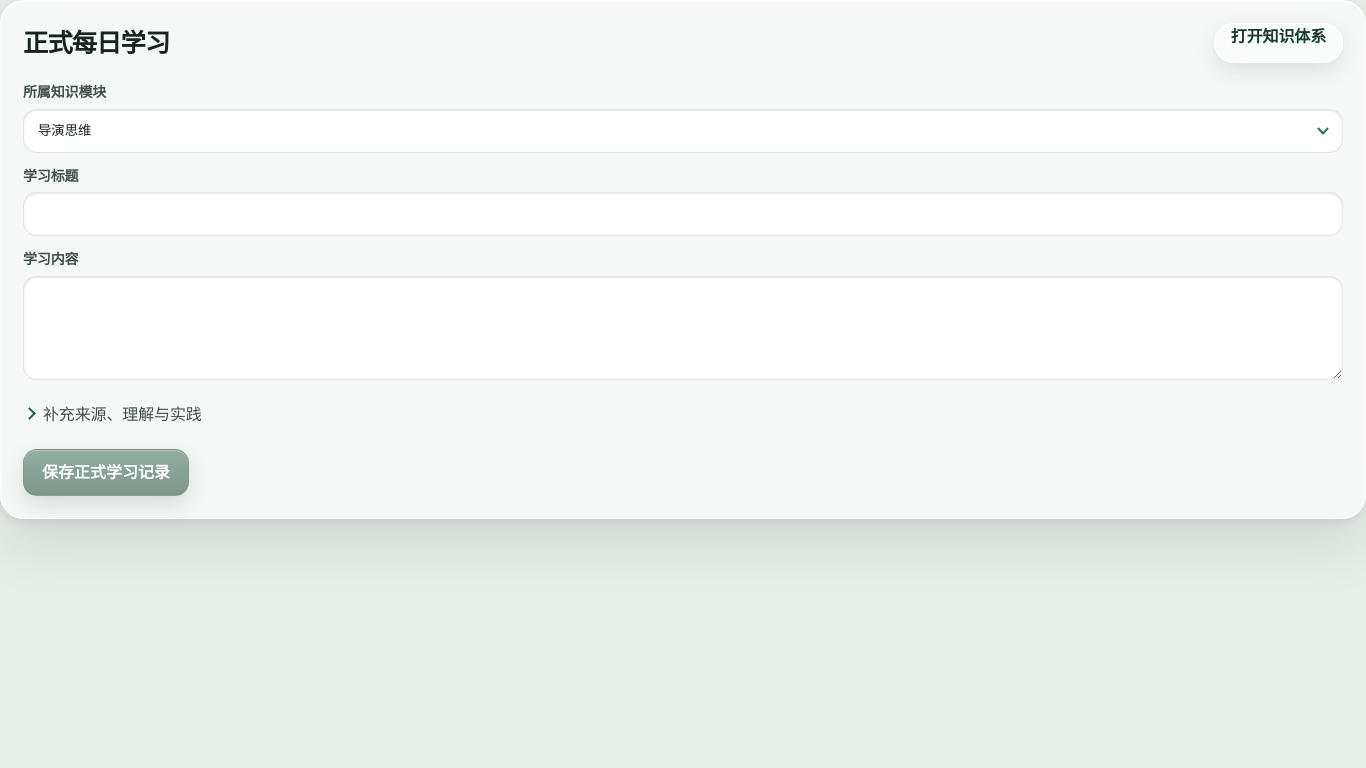
Scenario: TodayLearningNoteCard › saves a formal learning note separately from the quick-capture inbox
The width and height of the screenshot is (1366, 768).
Select "导演思维" in the dropdown labelled "所属知识模块" at coordinates (683, 131), box x1=23 y1=109 x2=1343 y2=153
Type "景别如何改变叙事距离" into the field labelled "学习标题" at coordinates (683, 214), box x1=23 y1=192 x2=1343 y2=236
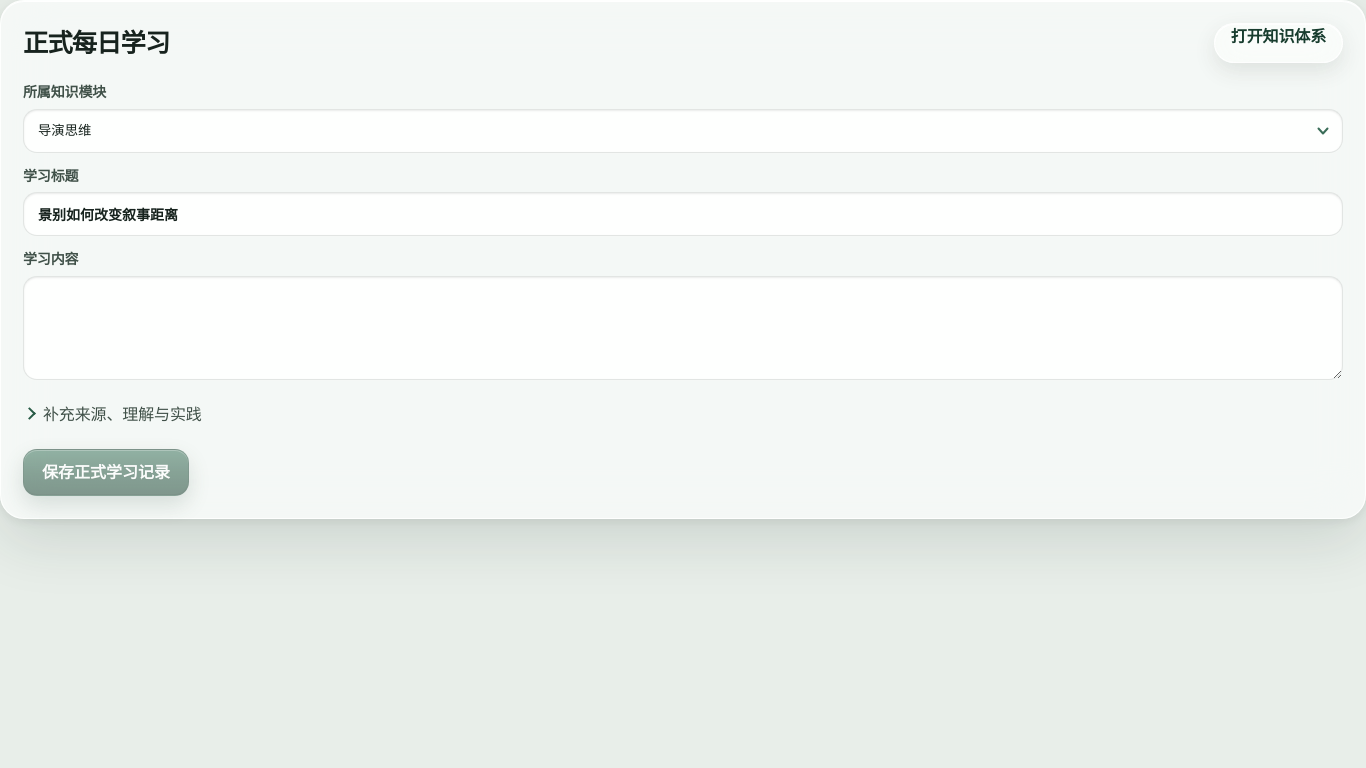
Type "远景先交代人物和环境的关系。" into the text box labelled "学习内容" at coordinates (683, 328), box x1=23 y1=276 x2=1343 y2=380
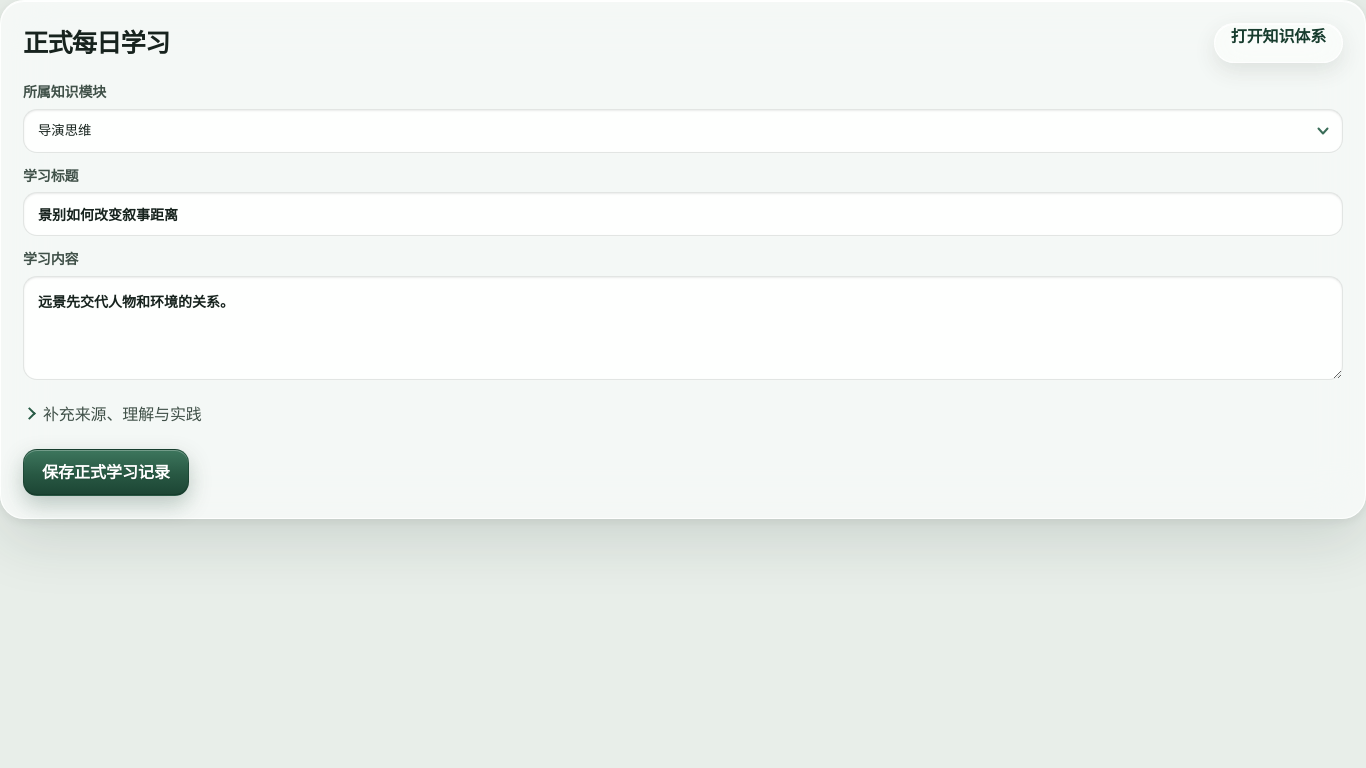
Click the button "保存正式学习记录" at coordinates (106, 472), box x1=23 y1=449 x2=189 y2=496
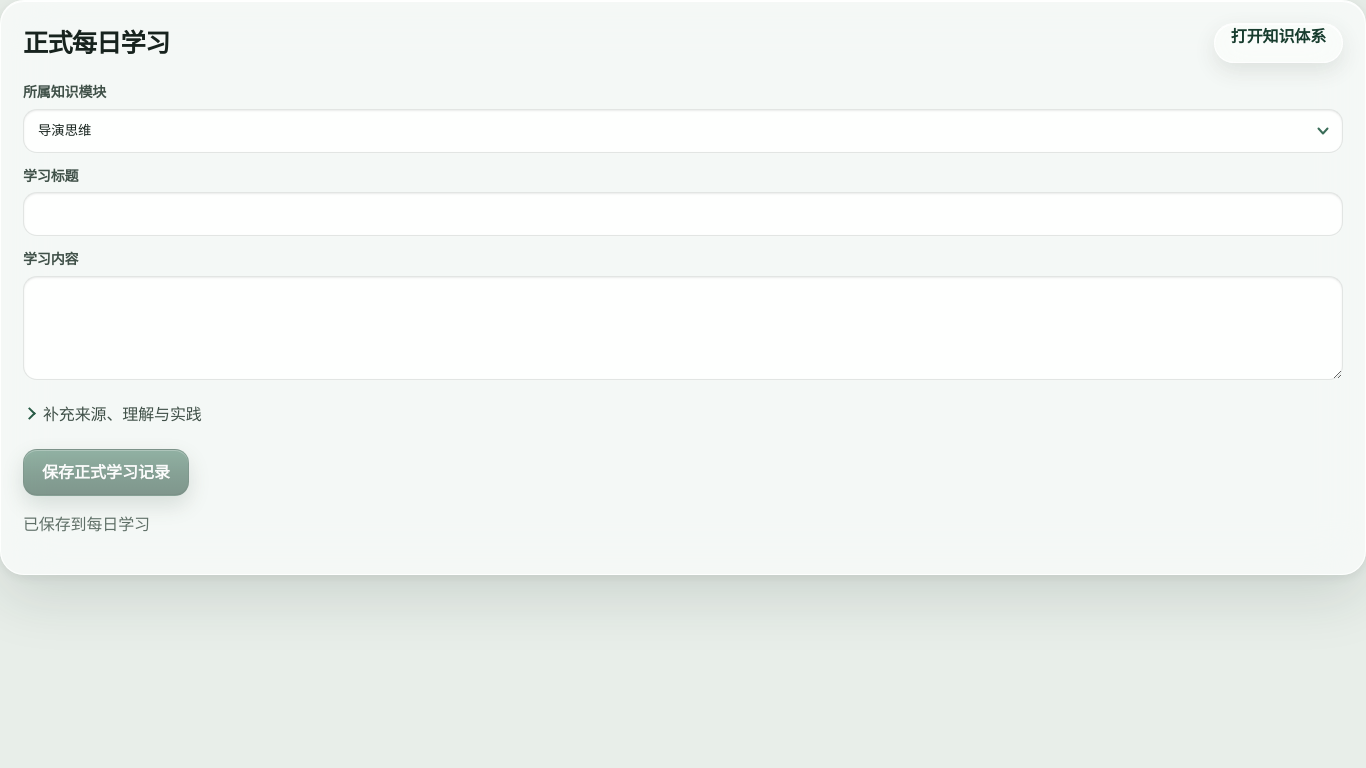
Expected: the text "已保存到每日学习" is shown, x1=23 y1=514 x2=150 y2=534
